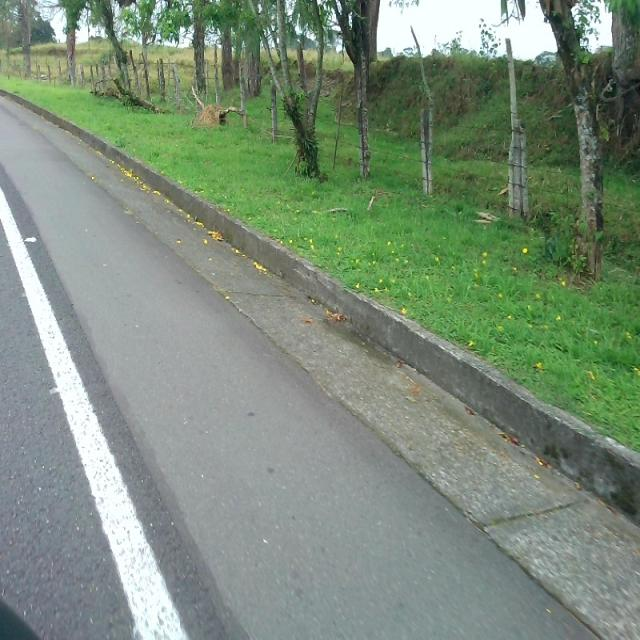DITCH: (1, 8, 638, 638), (1, 87, 638, 638), (1, 172, 639, 638)
